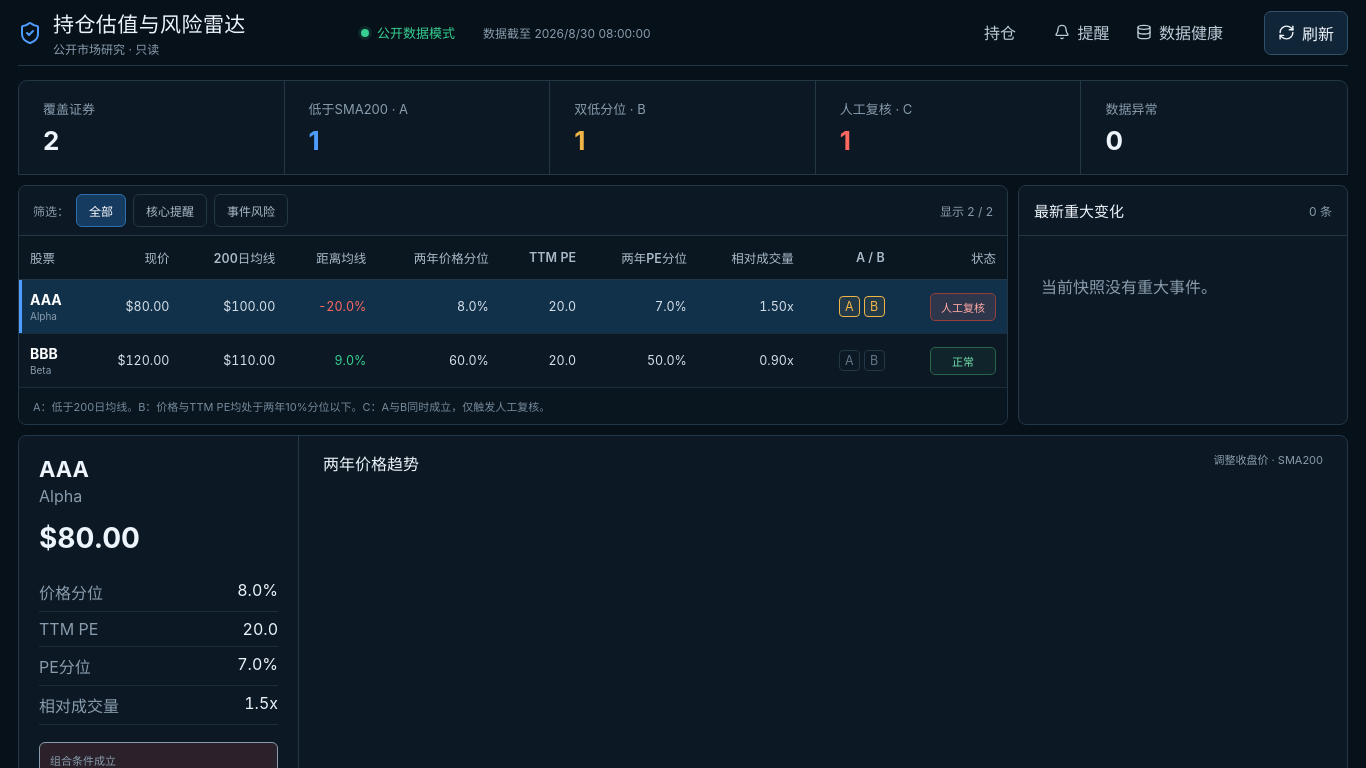
Test: App › renders the latest public-safe snapshot and filters core reviews
Expected: the text "Alpha" in the row of "$100.00" is shown, [30, 310, 57, 322]
What coordinates should you click on to do the following:
click the button "核心提醒"
I would click on:
 (170, 210)
Its box is [133, 194, 207, 227].
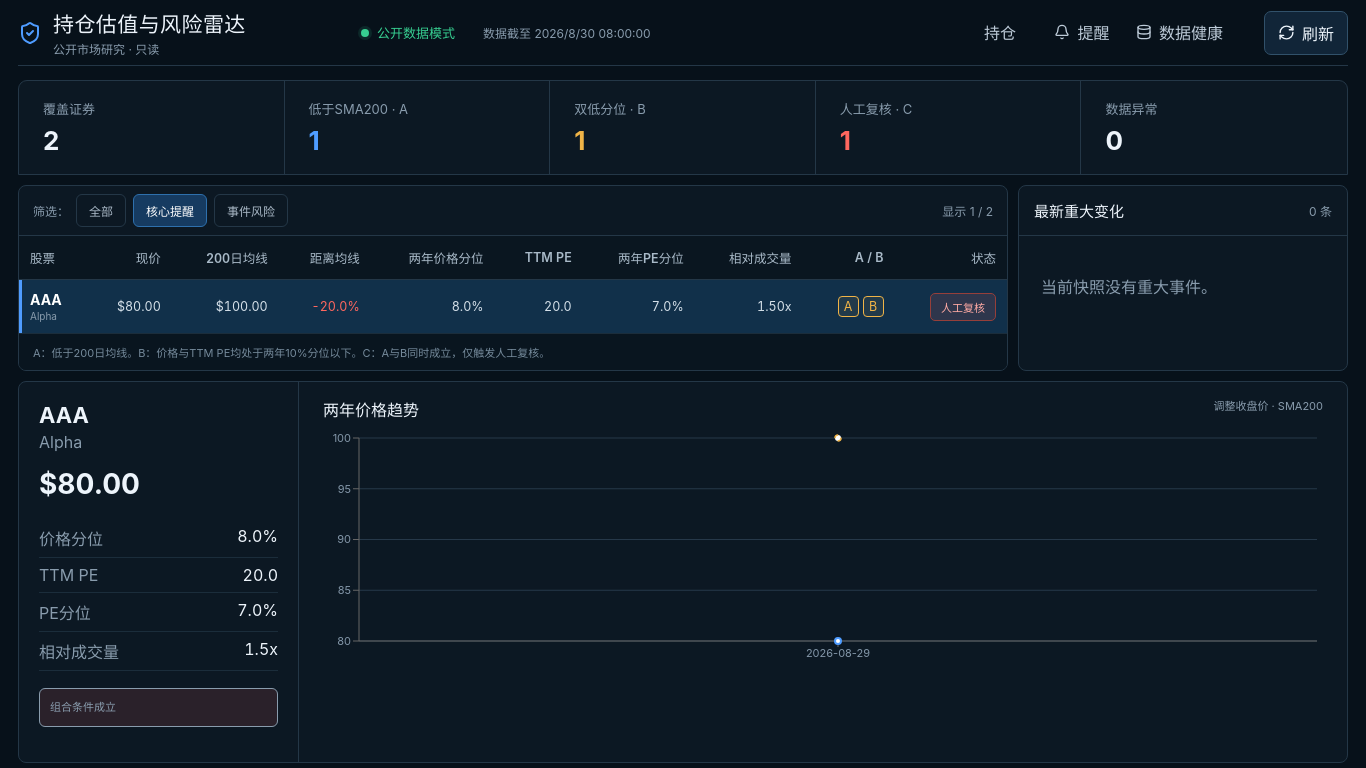
Expected: the text "Alpha" in the row of "$100.00" is shown, [30, 310, 57, 322]
Expected: the text "Beta" is gone
